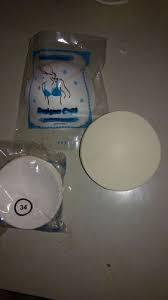Liquid: (3, 3, 168, 300)
